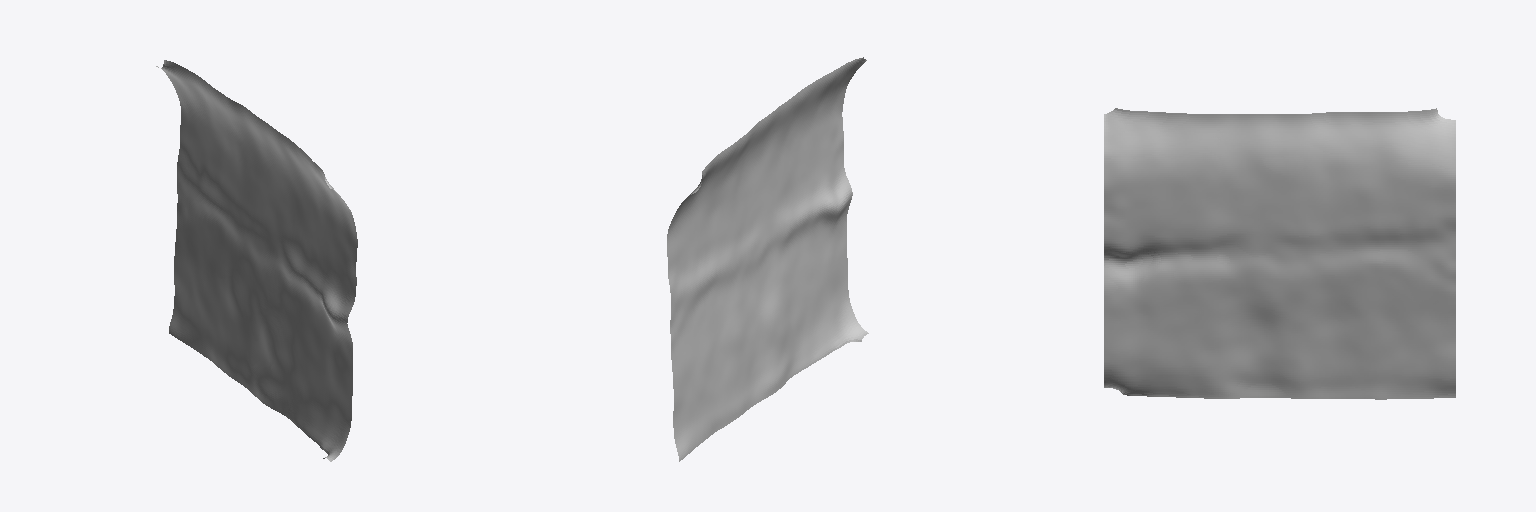
Rendered from basics_example_mesh_marching_cubes.obj.
The picture shows the model from 3 angles: view 1: azimuth 30°, elevation 25°; view 2: azimuth 150°, elevation 25°; view 3: azimuth 270°, elevation 25°; orthographic projection.
Parts seen in each view (by area): view 1: b; view 2: b; view 3: b.
Part boxes in pixels (bbox=[...]): b: bbox=[156, 60, 357, 461]; b: bbox=[667, 57, 868, 461]; b: bbox=[1104, 108, 1455, 399].
Size of the model in its own units: 16.29 by 162 by 183.